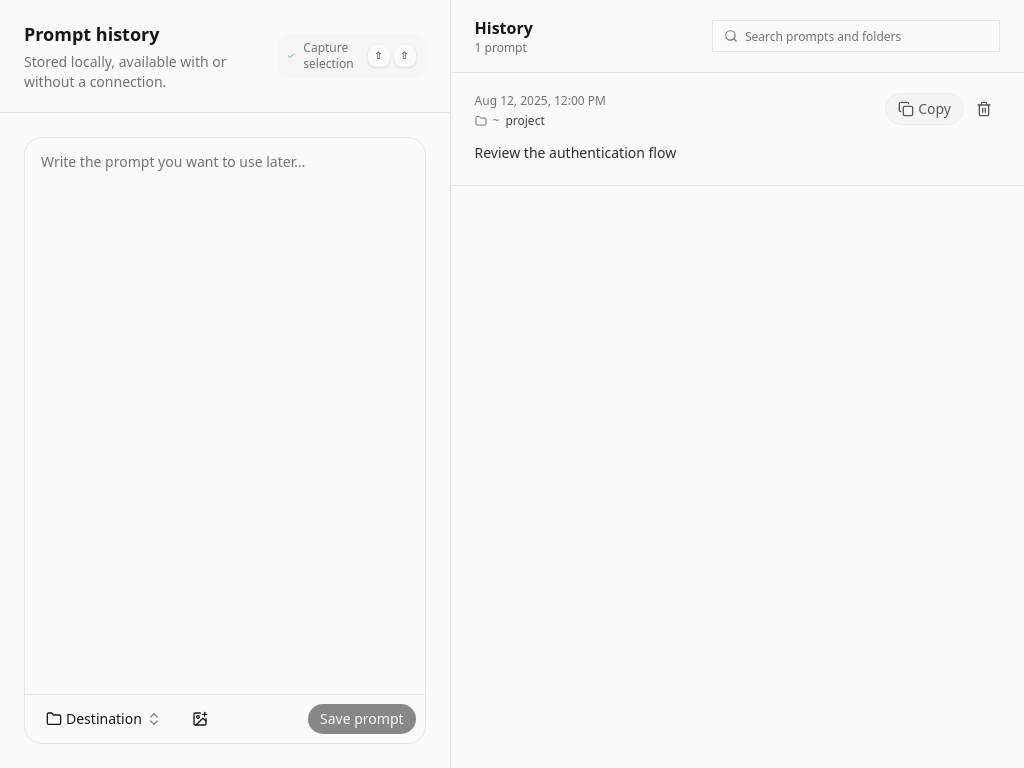
Test: PromptHistoryView › deletes a saved prompt after inline confirmation
This screenshot has width=1024, height=768.
What coordinates should you click on to do the following:
click the button named "Delete prompt saved"
I would click on:
 (984, 109)
Its box is [968,93,1000,125].
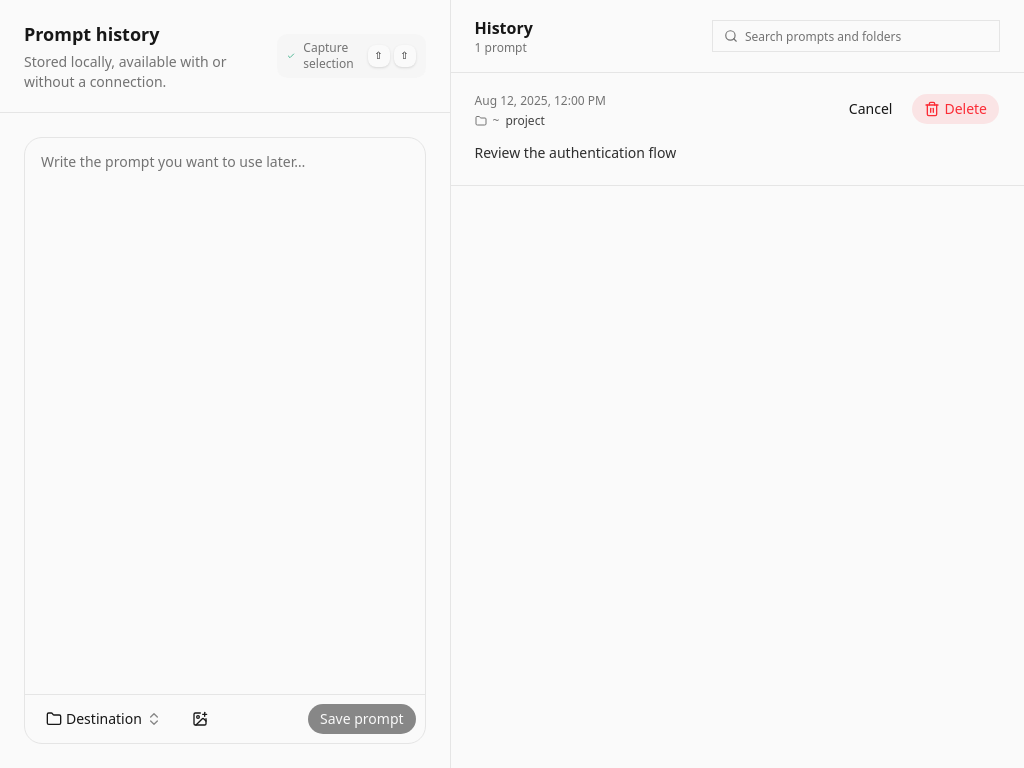
What coordinates should you click on to do the following:
click the button "Delete"
I would click on:
 (956, 109)
Its box is [911,93,1000,125].
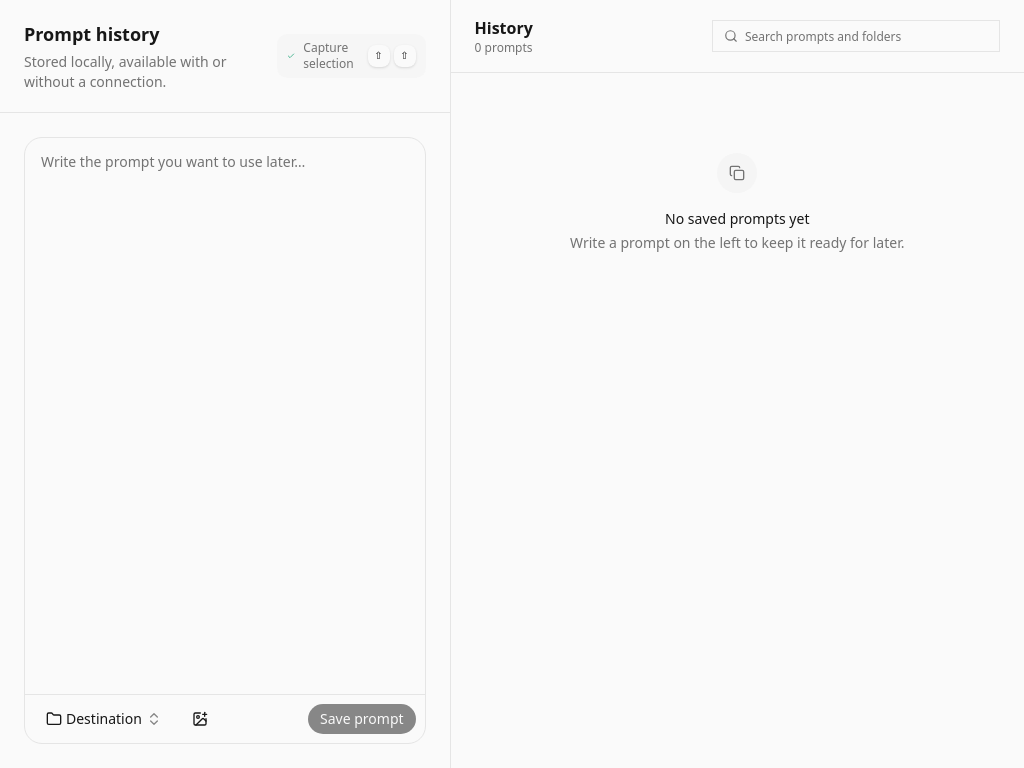
Check: the text "Review the authentication flow" is gone
Check: the text "No saved prompts yet" is shown, box [665,209,809,229]
